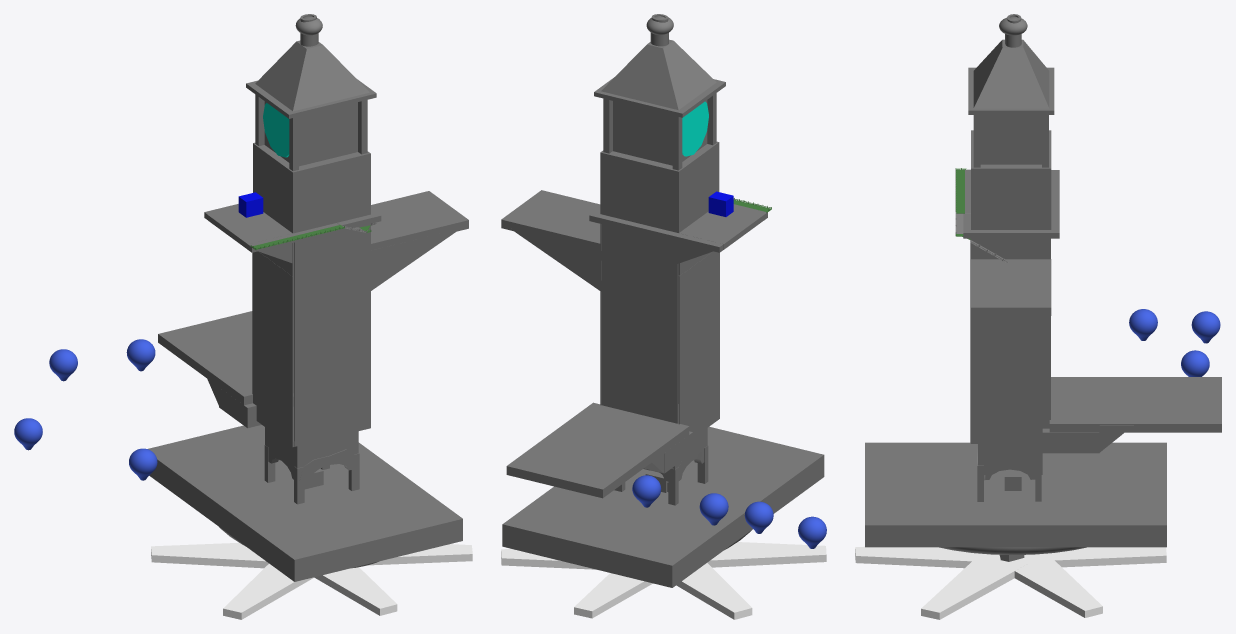
Rendered from Gare_For_FBX.fbx.
3 renders of one model, left to right at view 1: azimuth 30°, elevation 25°; view 2: azimuth 150°, elevation 25°; view 3: azimuth 270°, elevation 25°, orthographic.
Parts seen in each view (by area): view 1: Cube, Cube__17_, Cube__13_, Pales, Cube__15_, Cube__6__2, Cube__22_, Cube__2_, Cube__8_, Prism__1_, Cube__14_, Cube__21_ (+10 smaller); view 2: Cube, Cube__18_, Cube__6__2, Cube__13_, Cube__15_, Pales, Cube__22_, Cube__2_, Cube__8_, Cube__14_, Prism__1_, Cube_2 (+11 smaller); view 3: Cube, Cube__16_, Pales, Cube__6__2, Cube__13_, Cube__2_, Cube__22_, Cube__8_, Cube__6__1, Cube__7__1, Cube__21_, Sphere (+6 smaller).
Part boxes in pixels (x1,y1,x2,y2): Cube: [148, 425, 462, 581]; Cube__17_: [294, 224, 369, 446]; Cube__13_: [253, 142, 370, 233]; Pales: [151, 542, 472, 619]; Cube__15_: [252, 251, 293, 446]; Cube__6__2: [158, 311, 252, 405]; Cube__22_: [255, 40, 369, 111]; Cube__2_: [371, 191, 468, 250]; Cube__8_: [264, 101, 357, 166]; Prism__1_: [371, 232, 455, 290]; Cube__14_: [208, 207, 292, 249]; Cube__21_: [246, 79, 376, 118]; Cube: [502, 426, 824, 587]; Cube__18_: [601, 224, 678, 423]; Cube__6__2: [506, 402, 689, 498]; Cube__13_: [600, 141, 719, 232]; Cube__15_: [678, 251, 719, 438]; Pales: [501, 542, 826, 619]; Cube__22_: [601, 39, 716, 109]; Cube__2_: [501, 190, 601, 252]; Cube__8_: [613, 100, 707, 165]; Cube__14_: [679, 207, 764, 249]; Prism__1_: [510, 228, 601, 291]; Cube_2: [597, 214, 723, 252]; Cube: [865, 442, 1166, 547]; Cube__16_: [970, 238, 1050, 443]; Pales: [855, 546, 1166, 619]; Cube__6__2: [1049, 377, 1221, 432]; Cube__13_: [971, 130, 1051, 229]; Cube__2_: [971, 259, 1051, 315]; Cube__22_: [973, 39, 1049, 108]; Cube__8_: [980, 115, 1041, 164]; Cube__6__1: [978, 444, 1041, 468]; Cube__7__1: [1042, 428, 1099, 453]; Cube__21_: [968, 67, 1054, 114]; Sphere: [939, 547, 1086, 554].
Bounding box in the file's own units: 22646 × 32139 × 19542.
